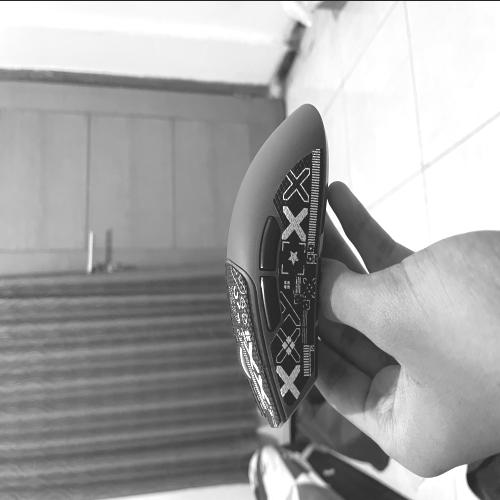mouse: (209, 89, 349, 437)
